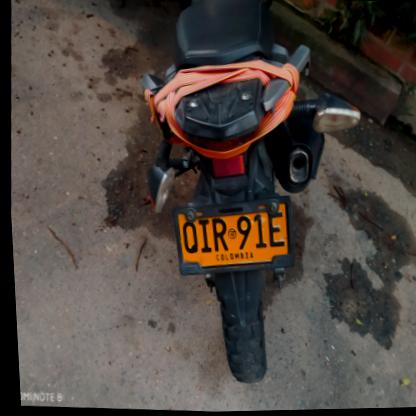placa: (159, 188, 296, 287)
